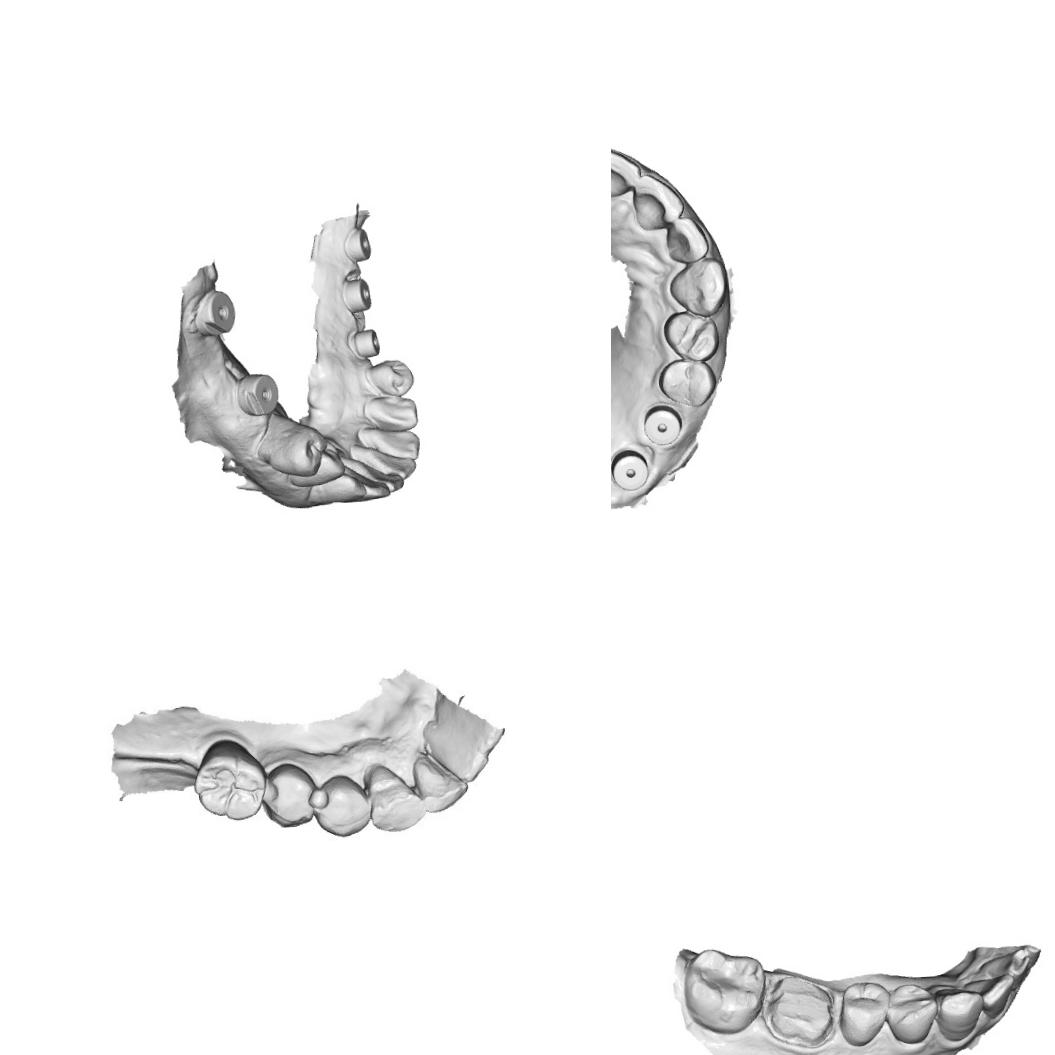canine: (362, 762, 424, 834), (666, 255, 728, 318), (932, 983, 985, 1043), (360, 392, 420, 434), (306, 468, 366, 510)
crown: (760, 970, 838, 1048)
implant: (190, 286, 241, 340), (232, 369, 280, 418), (640, 402, 685, 448), (611, 446, 650, 491), (346, 320, 382, 361), (339, 275, 373, 315), (342, 222, 374, 264)
incisor: (412, 750, 469, 814), (630, 170, 684, 232), (973, 942, 1043, 985), (960, 971, 1017, 1021), (360, 423, 422, 463), (664, 215, 710, 263), (363, 448, 418, 482), (611, 143, 640, 199), (361, 466, 408, 495), (350, 478, 392, 510)
molar: (679, 944, 770, 1038), (191, 742, 265, 820)
premolar: (260, 420, 330, 481), (835, 979, 893, 1048), (312, 776, 370, 839), (884, 981, 940, 1046), (264, 762, 316, 828), (661, 308, 721, 363), (657, 358, 718, 408), (366, 356, 416, 398), (310, 446, 348, 484)
